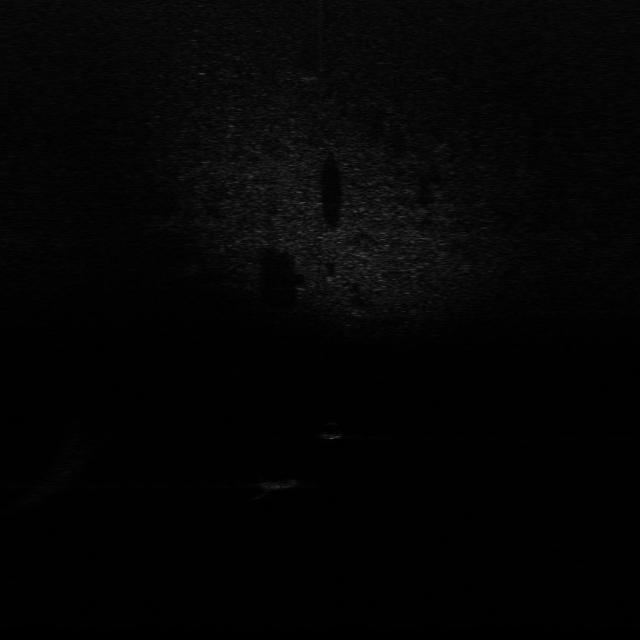ball: (316, 420, 346, 440)
square cage: (252, 472, 314, 492)
